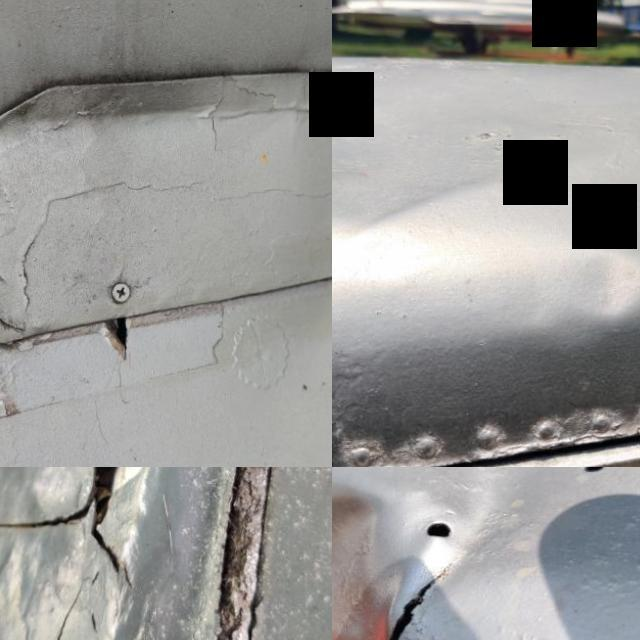Crack: (0, 467, 197, 615), (353, 554, 474, 640), (84, 310, 144, 378)
Dent: (549, 83, 640, 355), (332, 467, 405, 640)
